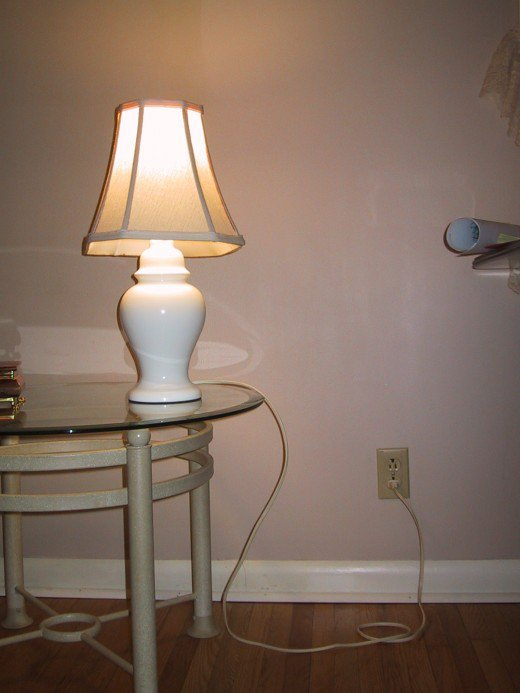outlet: (387, 457, 399, 471)
